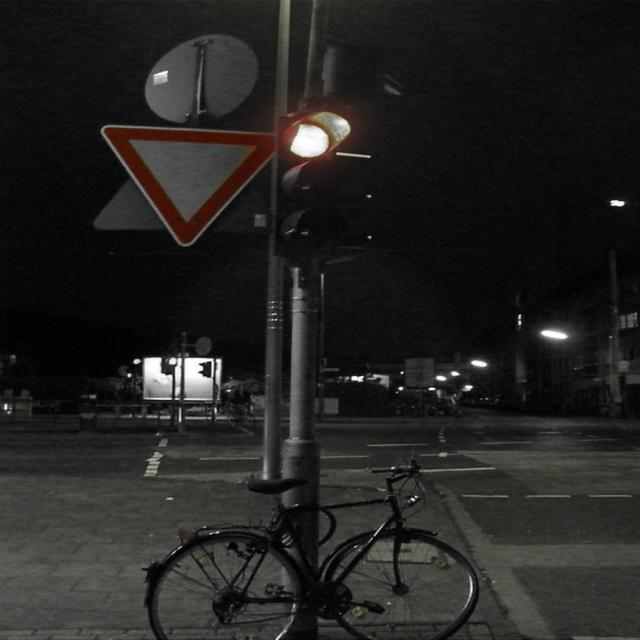Bicycle: (65, 440, 495, 640)
